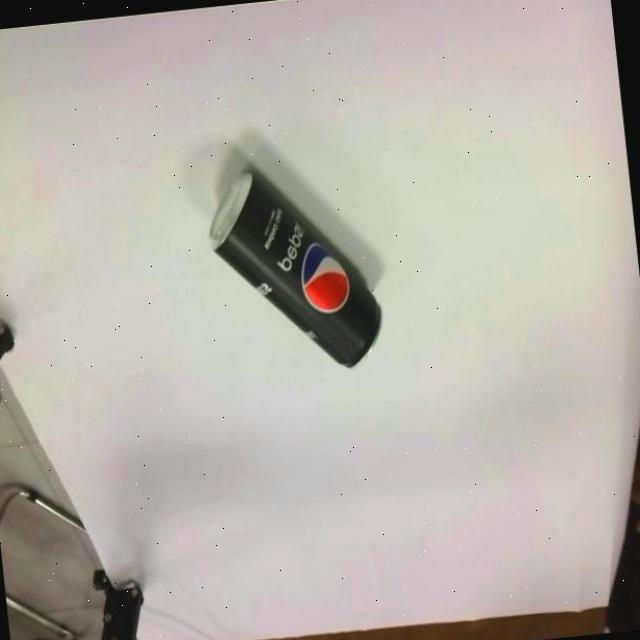debris: (200, 154, 386, 382)
